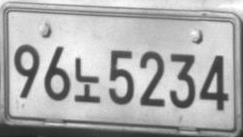2: (140, 50, 165, 106)
3: (169, 53, 196, 108)
4: (199, 54, 229, 111)
5: (108, 49, 135, 105)
6: (44, 46, 71, 101)
9: (13, 43, 40, 99)
노: (74, 58, 101, 104)
